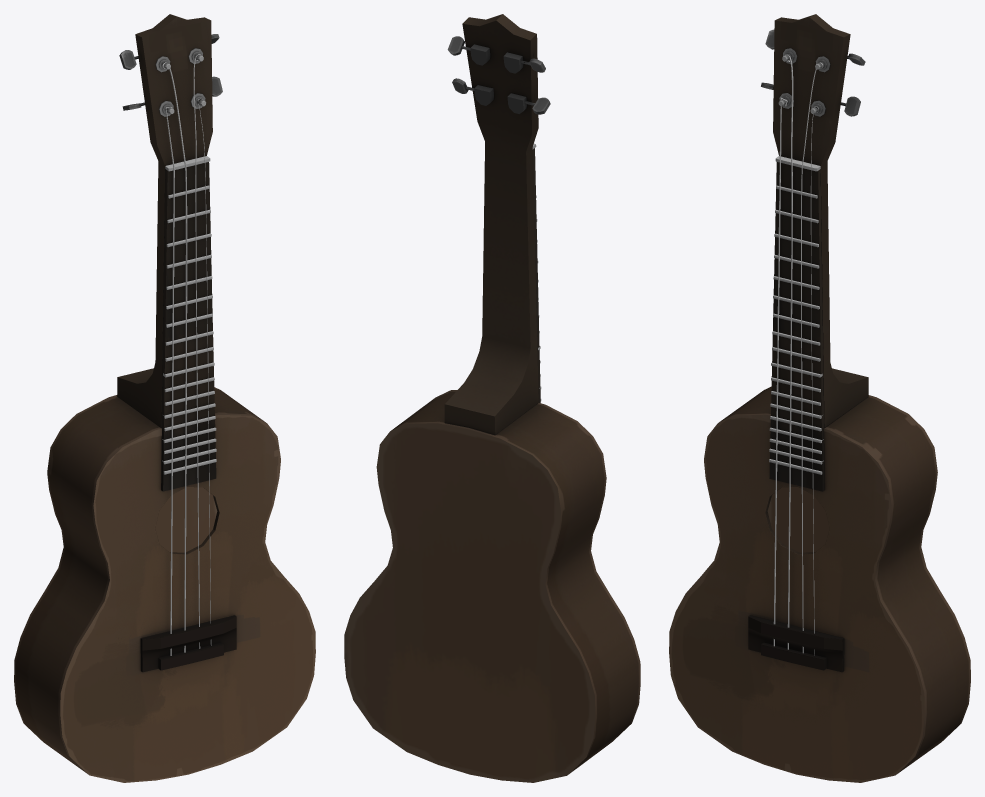
File: ukulele1.glb
3 renders of one model, left to right at view 1: azimuth 30°, elevation 25°; view 2: azimuth 150°, elevation 25°; view 3: azimuth 330°, elevation 25°, orthographic.
Visible parts, largest first — view 1: Cube.001; view 2: Cube.001; view 3: Cube.001.
Boxes of the visible parts, bbox=[...] form: Cube.001: bbox=[14, 14, 315, 782]; Cube.001: bbox=[344, 14, 640, 782]; Cube.001: bbox=[669, 14, 970, 782].
Size of the model in its own units: 0.2871 by 0.8041 by 0.1012.
Materials: 1 (1 with a texture image).
